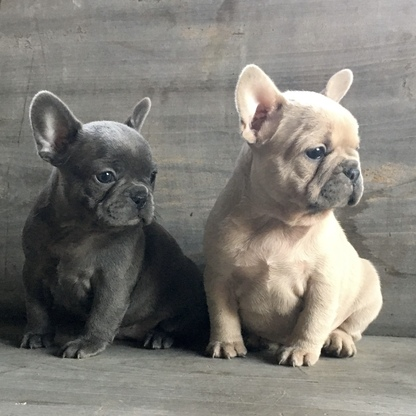bulldog: (204, 60, 390, 373), (23, 90, 199, 361)
